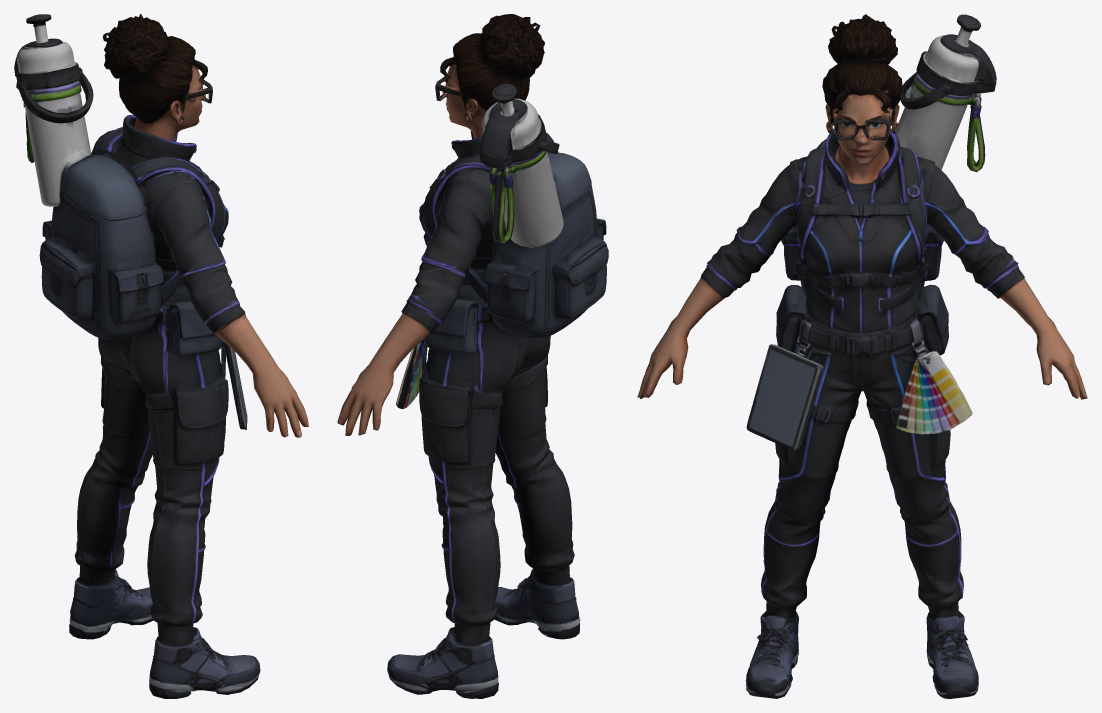
File: dc1578a9-a3cc-4c9c-a144-08715063b344-pbr_model.glb
The picture shows the model from 3 angles, left to right: view 1: azimuth 30°, elevation 25°; view 2: azimuth 150°, elevation 25°; view 3: azimuth 270°, elevation 25°; orthographic projection.
Visible parts, largest first — view 1: tripo_node_dc1578a9-a3cc-4c9c-a144-08715063b344; view 2: tripo_node_dc1578a9-a3cc-4c9c-a144-08715063b344; view 3: tripo_node_dc1578a9-a3cc-4c9c-a144-08715063b344.
Boxes of the visible parts, x1,y1,x2,y2 form: tripo_node_dc1578a9-a3cc-4c9c-a144-08715063b344: [14, 14, 308, 698]; tripo_node_dc1578a9-a3cc-4c9c-a144-08715063b344: [337, 14, 608, 698]; tripo_node_dc1578a9-a3cc-4c9c-a144-08715063b344: [637, 14, 1087, 698].
Size of the model in its own units: 0.252 by 0.9802 by 0.6134.
Materials: 1 (1 with a texture image).
